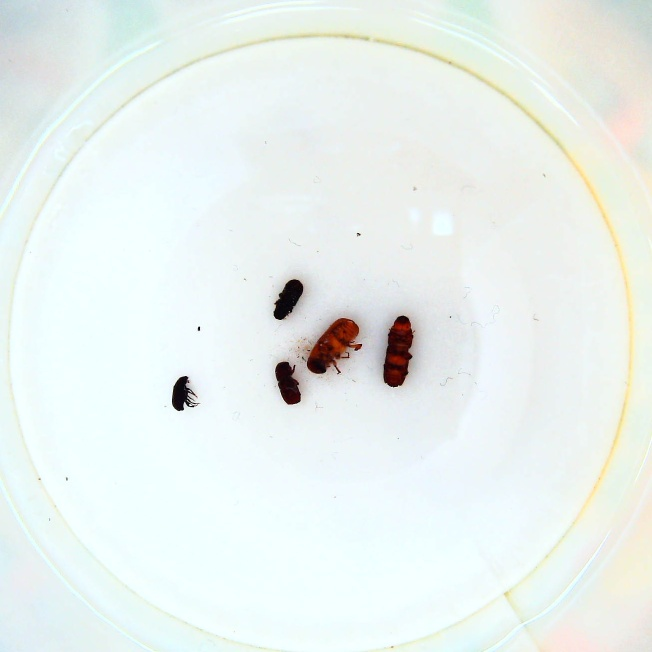armandi: (272, 276, 307, 323)
boerner: (382, 312, 419, 389)
coleoptera: (172, 372, 200, 416)
leconte: (305, 312, 364, 378)
linnaeus: (273, 360, 306, 409)
